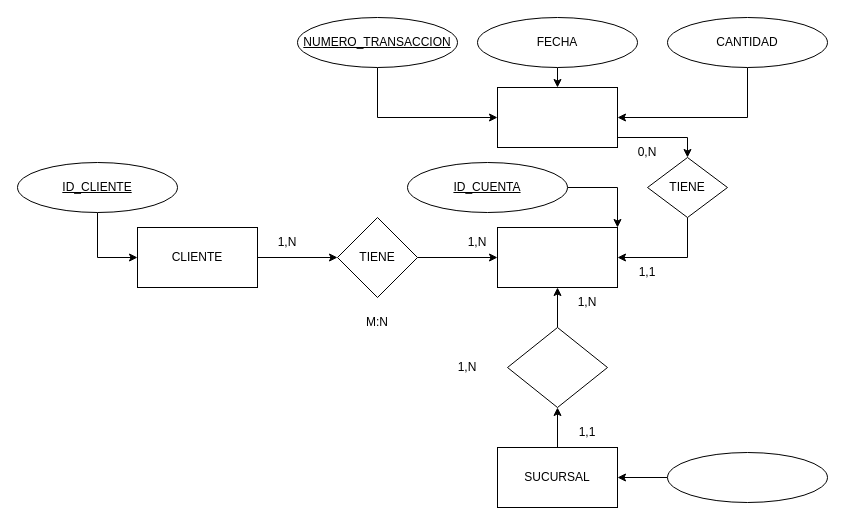
This 845x525 diagram has some shape labels left out. Here are the shapes that lost their labels. From the top down, the centre of each, then its label:
At [557,117]: "TRANSACCIONES".
At [557,257]: "CUENTA".
At [557,367]: "PERTENECE A".
At [747,477]: "ID_SUCURSAL".
